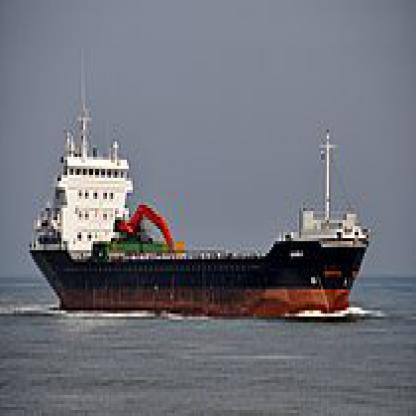Container Ship: (27, 49, 372, 320)
